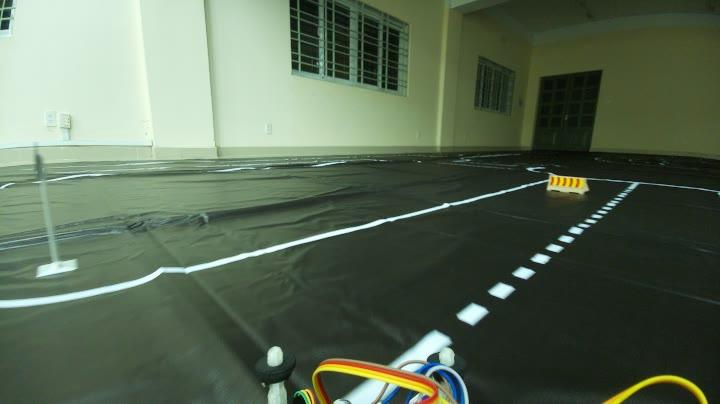roadblock: (544, 172, 586, 198)
